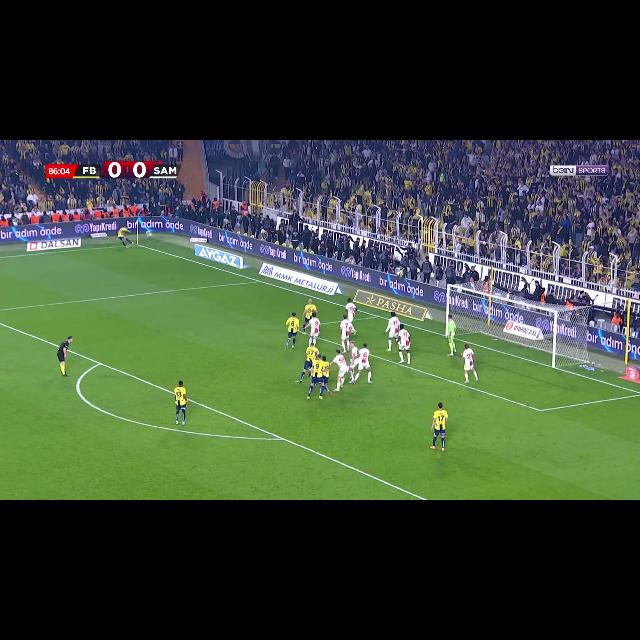billboard: (0, 216, 640, 361), (259, 263, 343, 295), (353, 289, 433, 321), (194, 244, 249, 268), (503, 320, 544, 340), (27, 238, 81, 251)
